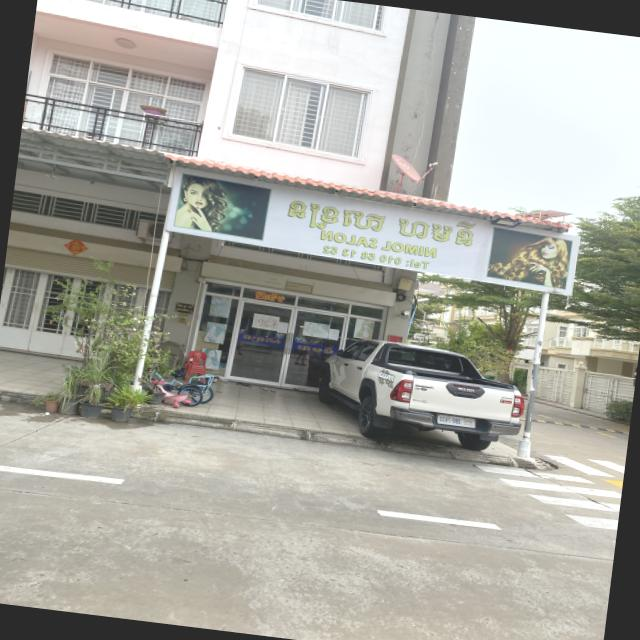1: (283, 193, 477, 254)
227: (321, 242, 404, 266)
631: (457, 418, 460, 424)
834: (439, 416, 452, 423)
Yolov11_80vkh: (242, 332, 283, 347), (295, 342, 334, 356), (252, 289, 288, 304), (463, 419, 473, 423)
